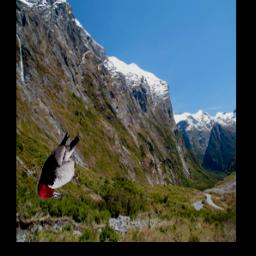Woodpecker: (37, 133, 81, 200)
